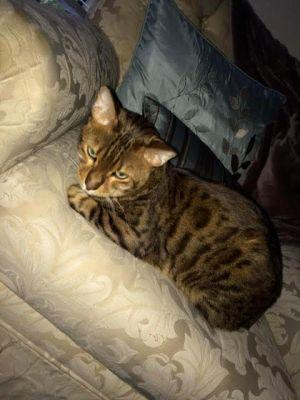bengal: (66, 79, 182, 213)
